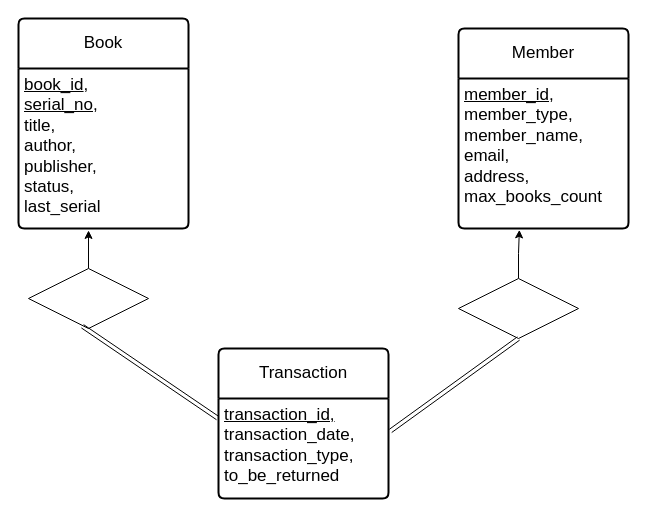
This 646x516 diagram has some shape labels left out. Each missing label, with the centre of its shape:
"r1" belongs at [88,298].
"r2" belongs at [518,308].
